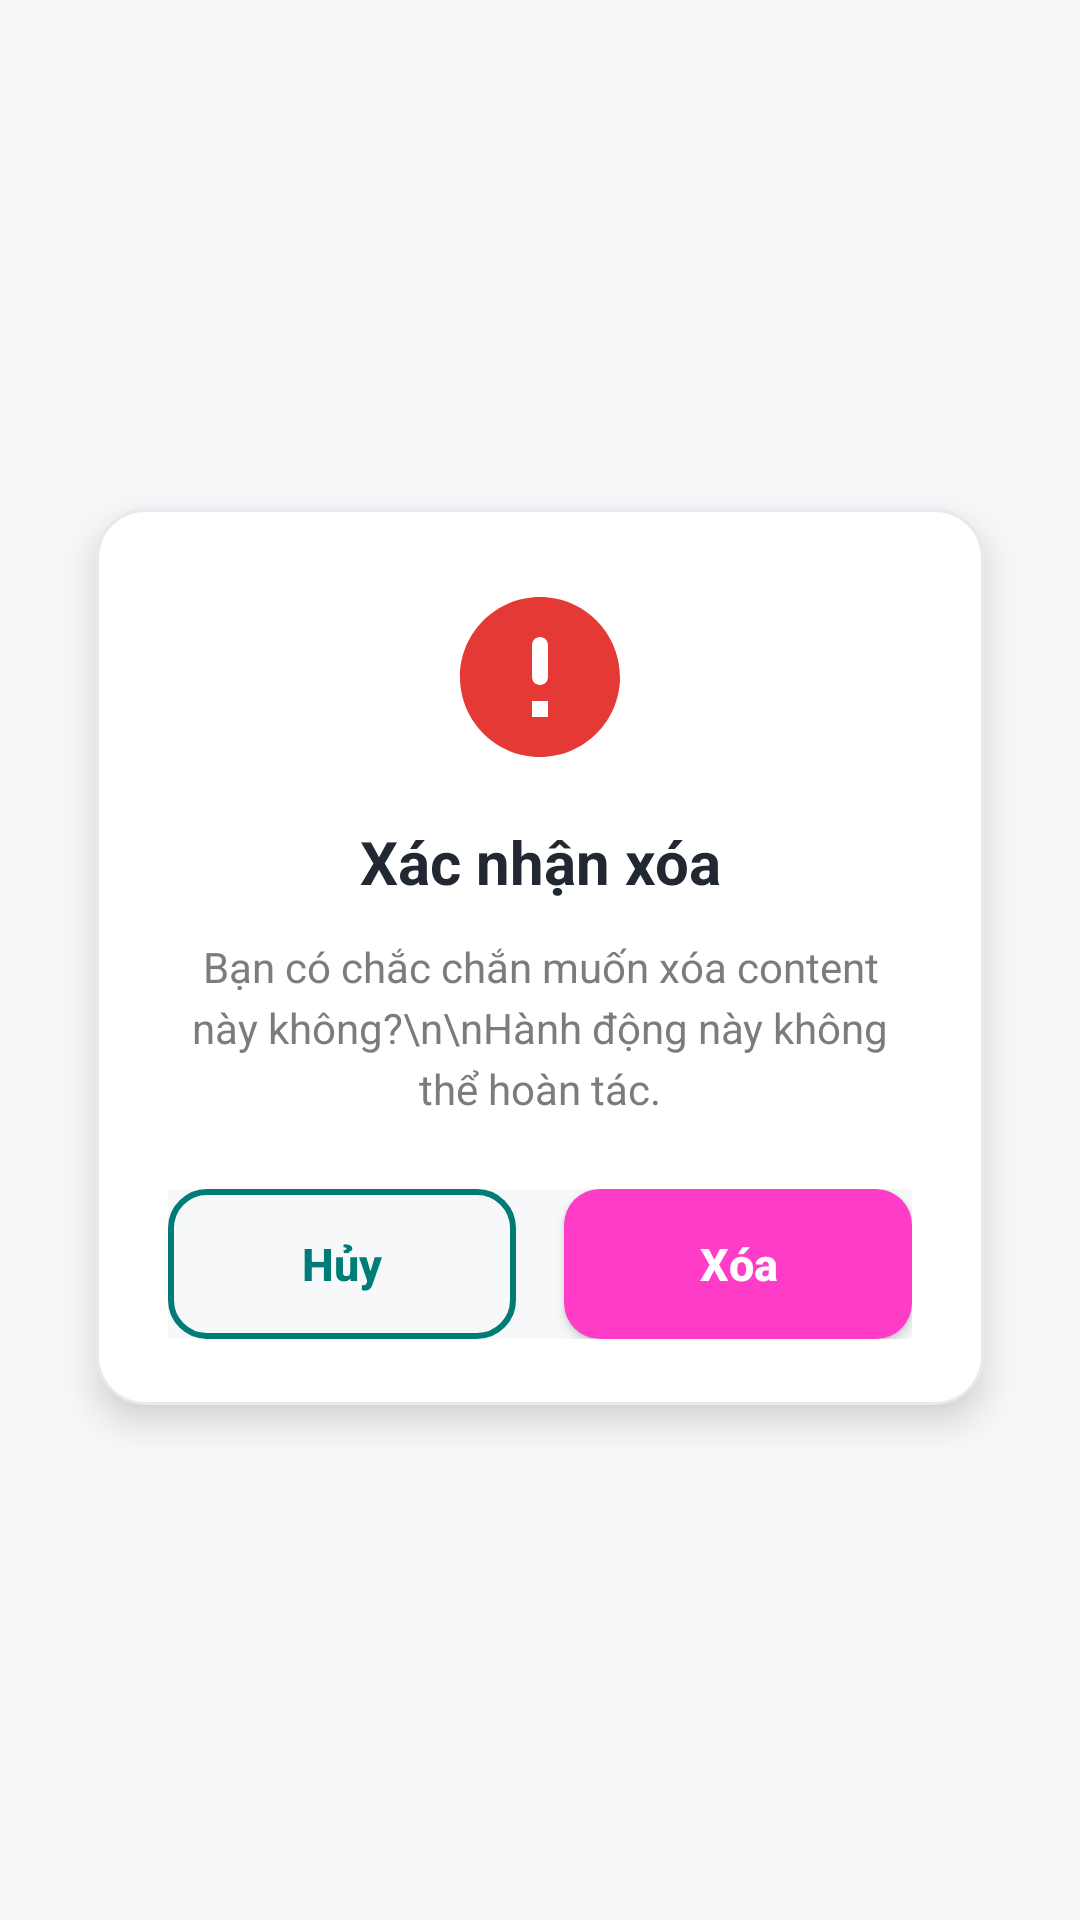

Locate icon controls on the screen. Image size 1080 x 1920, boxes as (x1, y1, x2, y2).
Warning icon: (460, 597, 620, 757)
